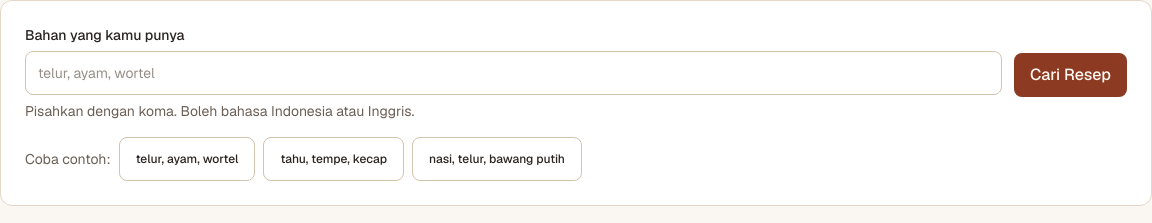
Test: IngredientInput › tombol contoh mengisi field
Click the button "telur, ayam, wortel" at (187, 159), box [119, 137, 255, 181]
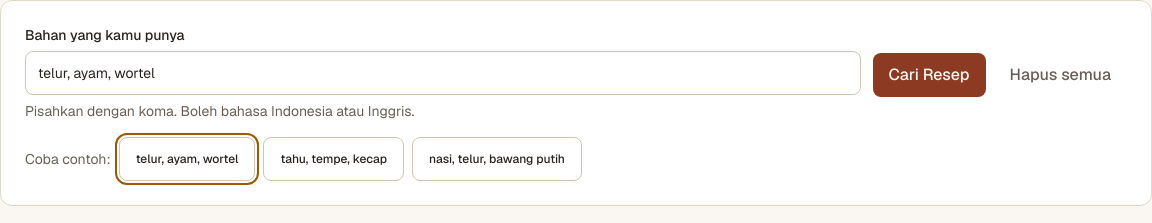
Expected: the field labelled "Bahan yang kamu punya" holds "telur, ayam, wortel", [25, 51, 860, 95]
